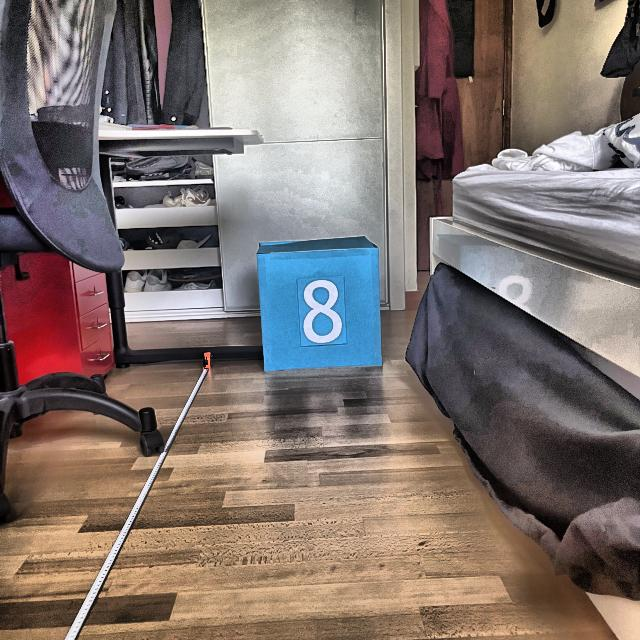blue box: (254, 234, 386, 375)
eight: (299, 277, 347, 345)
